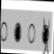correct: (13, 22, 22, 43)
not correct: (40, 17, 50, 54)
